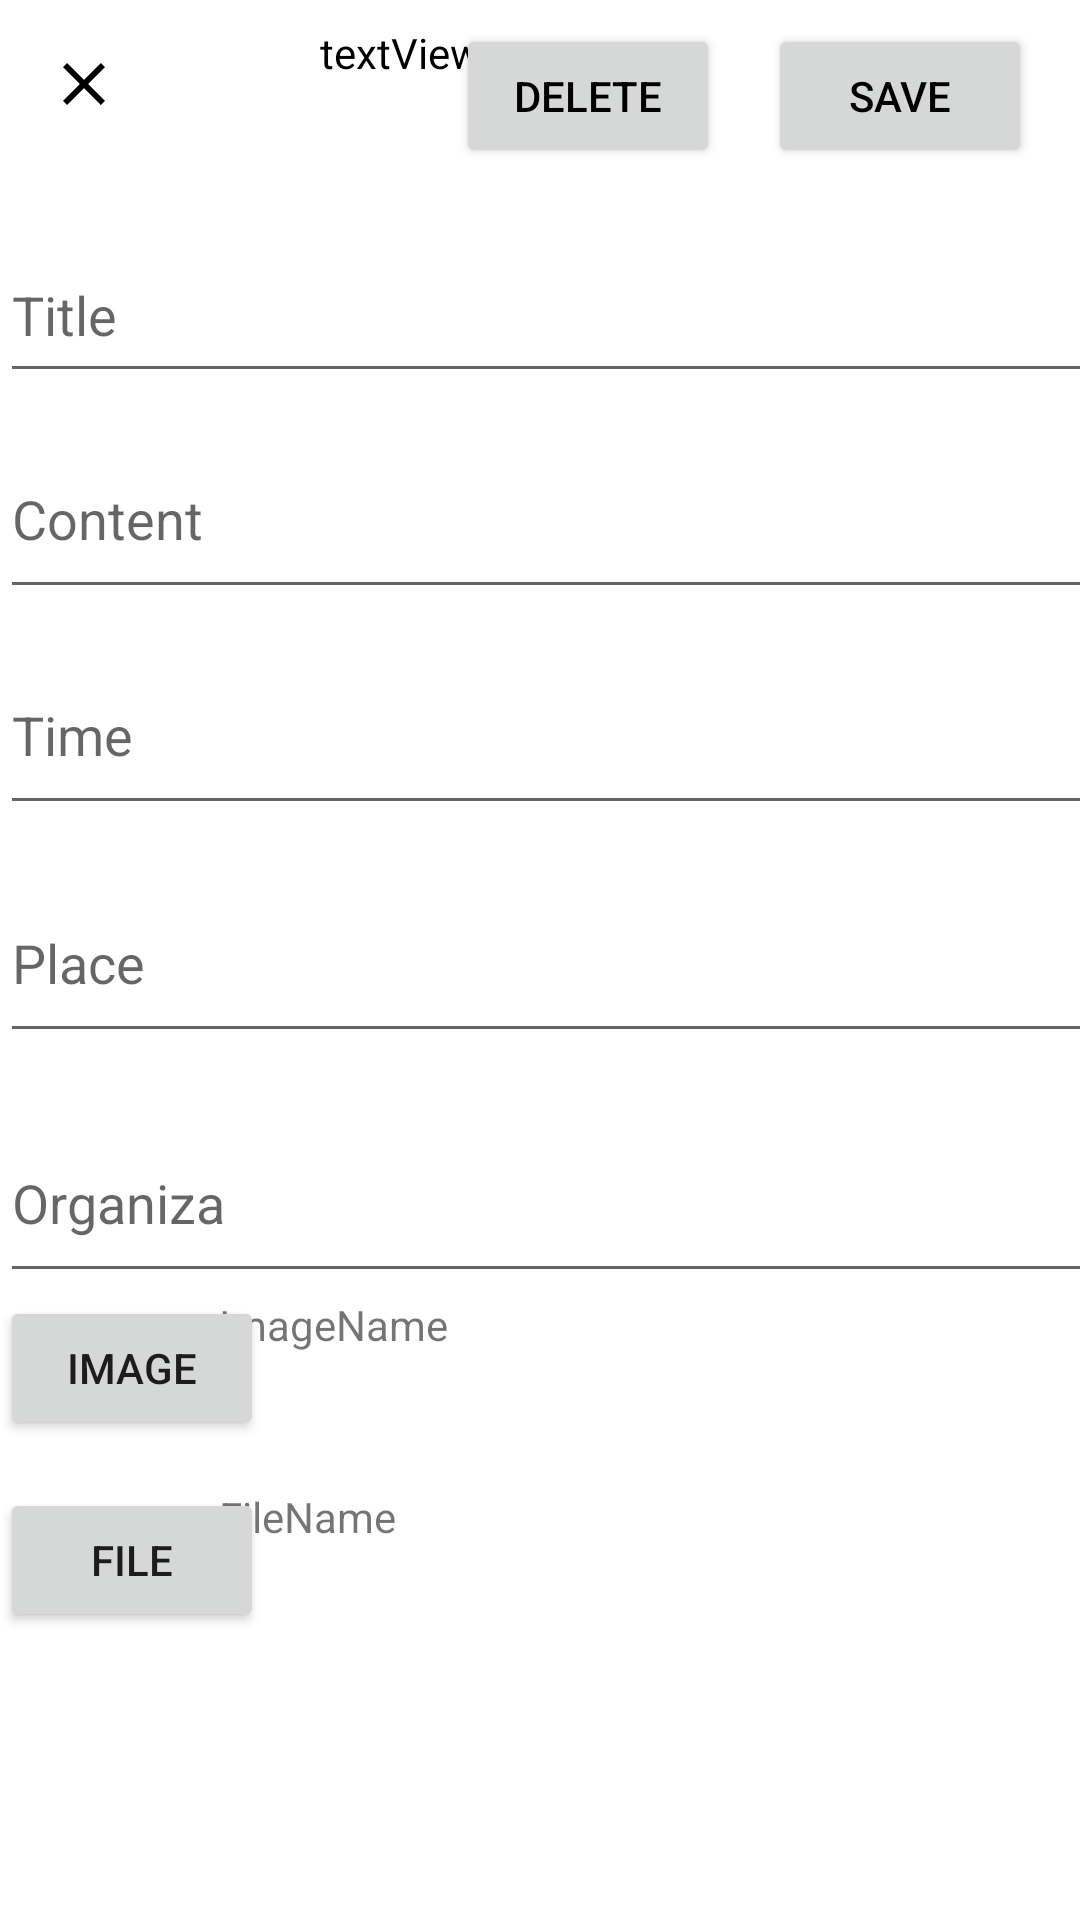

Icon click points for this 1080px x 1920px phone screenshot, format point (x, y):
Exit: point (84, 84)
